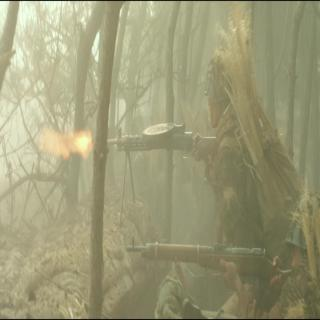gun: (106, 121, 218, 231), (128, 232, 294, 286)
